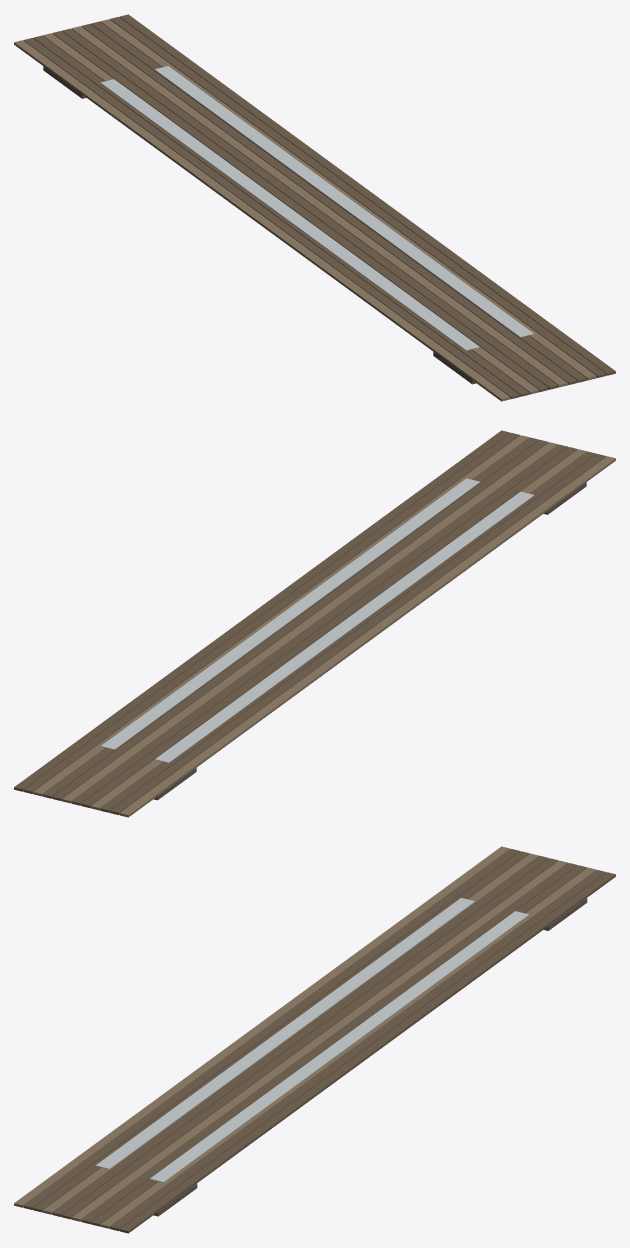
File: pier_deck.glb
3 renders of one model, top to bottom at view 1: azimuth 30°, elevation 25°; view 2: azimuth 150°, elevation 25°; view 3: azimuth 330°, elevation 25°, orthographic.
Parts seen in each view (by area): view 1: pier_deck; view 2: pier_deck; view 3: pier_deck.
Boxes of the visible parts, x1,y1,x2,y2 form: pier_deck: (14,14,615,401); pier_deck: (14,430,615,817); pier_deck: (14,846,615,1233).
Bounding box in the file's own units: 3 × 0.18 × 22.
